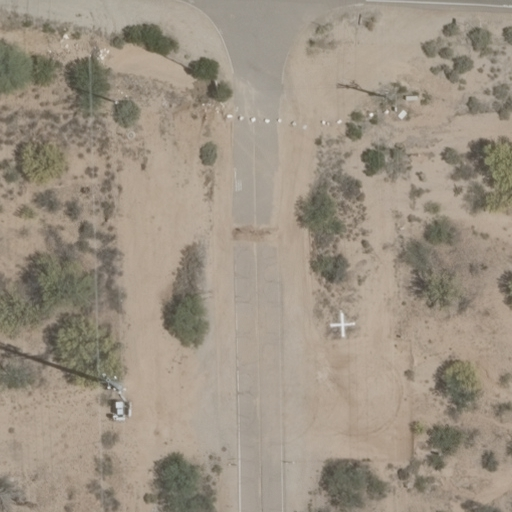DT: (97, 364, 135, 402), (375, 76, 407, 115)
